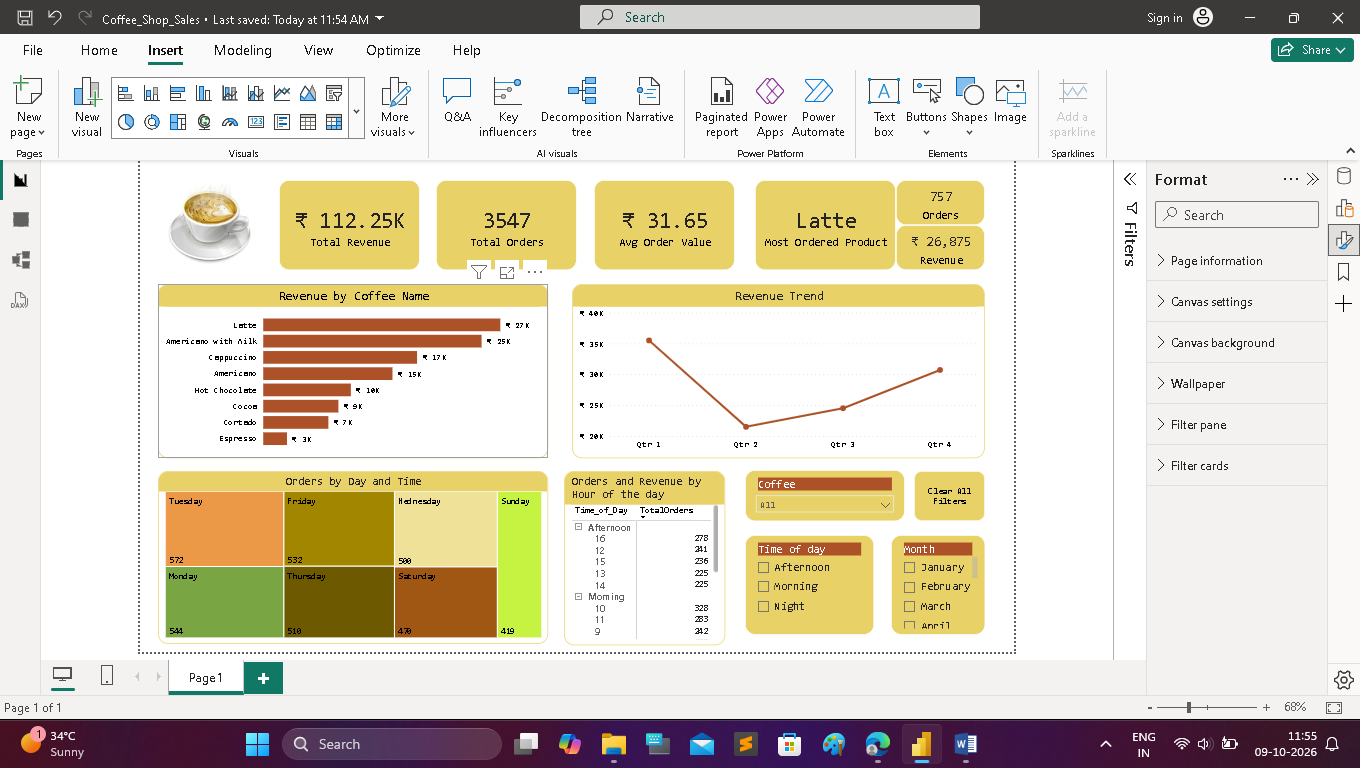

Layout of this report page (visuals, bound fields, positions):
{"tool":"powerbi","page":{"name":"Page 1","canvas":[1280,720],"ordinal":0},"visuals":[{"type":"card","fields":{"Values":["Coffe_sales.TotalRevenue"]},"box":[202.9,29.3,206.3,131.7],"z":0},{"type":"card","fields":{"Values":["Coffe_sales.TotalOrders"]},"box":[433.7,29.3,206.3,131.7],"z":1000},{"type":"card","fields":{"Values":["Coffe_sales.AvgOrderValue"]},"box":[664.4,29.3,206.3,131.7],"z":2000},{"type":"card","fields":{"Values":["Min(Coffe_sales.coffee_name)"]},"box":[900,29.3,206.3,131.7],"z":3000},{"type":"clusteredBarChart","title":"Revenue by Coffee Name","fields":{"Category":["Coffe_sales.coffee_name"],"Y":["Coffe_sales.TotalRevenue"]},"box":[26.3,181.5,570.7,254.6],"z":4000},{"type":"lineChart","title":"Revenue Trend","fields":{"Y":["Coffe_sales.TotalRevenue"],"Category":["Calendar.Date.Variation.Date Hierarchy.Year","Calendar.Date.Variation.Date Hierarchy.Quarter","Calendar.Date.Variation.Date Hierarchy.Month","Calendar.Date.Variation.Date Hierarchy.Day"]},"box":[632.2,181.5,604.4,254.6],"z":5000},{"type":"treemap","title":"Orders by Day and Time","fields":{"Values":["Coffe_sales.TotalOrders"],"Group":["Calendar.Day Name","Coffe_sales.Time_of_Day"]},"box":[26.3,455.1,570.7,253.2],"z":6000},{"type":"pivotTable","title":"Orders and Revenue by Hour of the day","fields":{"Values":["Coffe_sales.TotalOrders"],"Rows":["Coffe_sales.Time_of_Day","Coffe_sales.hour_of_day"]},"box":[620.5,455.1,235.6,254.6],"z":7000},{"type":"slicer","fields":{"Values":["Coffe_sales.coffee_name"]},"box":[885.4,453.7,234.1,74.6],"z":8000},{"type":"slicer","fields":{"Values":["Coffe_sales.Time_of_Day"]},"box":[885.4,548.8,188.8,146.3],"z":9000},{"type":"slicer","fields":{"Values":["Calendar.Date.Variation.Date Hierarchy.Month"]},"box":[1099,548.8,137.6,146.3],"z":10000},{"type":"card","fields":{"Values":["Coffe_sales.TotalOrders"]},"box":[1106.3,29.3,130.2,65.9],"z":11000},{"type":"card","fields":{"Values":["Coffe_sales.TotalRevenue"]},"box":[1106.3,95.1,130.2,65.9],"z":12000},{"type":"image","box":[26.3,29.3,152.2,131.7],"z":12001},{"type":"shape","box":[1132.7,455.1,103.9,73.2],"z":12002}]}

Visuals, with their boxes on the page's 1280x720 design canvas (x1, y1, x2, y2). These are canvas units, not pixel positions in the 1360x768 screenshot, which may show the page scaled, cropped or inside an application window:
card - Coffe_sales.TotalRevenue: box(203, 29, 409, 161)
card - Coffe_sales.TotalOrders: box(434, 29, 640, 161)
card - Coffe_sales.AvgOrderValue: box(664, 29, 871, 161)
card - Min(Coffe_sales.coffee_name): box(900, 29, 1106, 161)
"Revenue by Coffee Name" clusteredBarChart: box(26, 182, 597, 436)
"Revenue Trend" lineChart: box(632, 182, 1237, 436)
"Orders by Day and Time" treemap: box(26, 455, 597, 708)
"Orders and Revenue by Hour of the day" pivotTable: box(620, 455, 856, 710)
slicer - Coffe_sales.coffee_name: box(885, 454, 1120, 528)
slicer - Coffe_sales.Time_of_Day: box(885, 549, 1074, 695)
slicer - Calendar.Date.Variation.Date Hierarchy.Month: box(1099, 549, 1237, 695)
card - Coffe_sales.TotalOrders: box(1106, 29, 1236, 95)
card - Coffe_sales.TotalRevenue: box(1106, 95, 1236, 161)
image: box(26, 29, 178, 161)
shape: box(1133, 455, 1237, 528)
